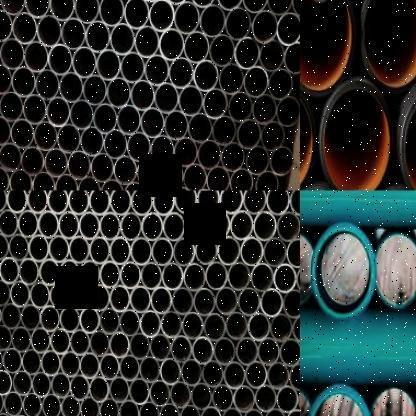pipe: (318, 79, 393, 190), (310, 225, 376, 317), (300, 0, 357, 96), (359, 0, 416, 95), (374, 232, 416, 309), (300, 79, 316, 190), (307, 388, 370, 416), (400, 84, 416, 190), (370, 388, 416, 416), (198, 3, 226, 38), (251, 9, 278, 44), (224, 7, 252, 40), (182, 30, 210, 63), (35, 14, 62, 48), (173, 1, 200, 35), (258, 38, 285, 72), (192, 60, 220, 92), (233, 36, 260, 69), (300, 232, 312, 306), (208, 34, 235, 66), (158, 28, 184, 61), (47, 42, 72, 76), (219, 62, 244, 96), (109, 23, 135, 55), (148, 0, 174, 32), (34, 68, 60, 100), (134, 25, 159, 58), (61, 17, 86, 50), (96, 48, 121, 81), (243, 65, 268, 98), (116, 103, 141, 136), (168, 56, 193, 89), (227, 90, 252, 123), (275, 94, 300, 127), (144, 53, 169, 86), (276, 11, 300, 45), (122, 0, 149, 30), (85, 20, 110, 52), (12, 12, 37, 44), (11, 66, 36, 98), (82, 74, 107, 106), (178, 84, 203, 116), (252, 93, 277, 125), (163, 109, 188, 141), (22, 93, 47, 125), (203, 87, 228, 119), (268, 68, 293, 100), (236, 118, 261, 150), (260, 120, 285, 152), (245, 144, 270, 176), (0, 37, 24, 70), (106, 76, 130, 109), (130, 79, 155, 110), (154, 82, 179, 113), (196, 139, 221, 170), (120, 52, 144, 84), (24, 40, 48, 72), (93, 102, 117, 134), (72, 46, 96, 78), (59, 71, 83, 103), (103, 128, 127, 160), (126, 130, 150, 162), (140, 106, 164, 138), (33, 120, 57, 152), (56, 122, 80, 154), (150, 134, 174, 166), (212, 114, 236, 146), (253, 210, 277, 242), (162, 210, 186, 242), (276, 210, 300, 242), (204, 260, 228, 292), (220, 142, 245, 172), (46, 96, 70, 127), (70, 99, 94, 130), (10, 118, 34, 149), (44, 147, 68, 178), (174, 136, 198, 167), (188, 112, 212, 143), (136, 157, 160, 188), (263, 237, 287, 268), (0, 90, 23, 122), (113, 154, 136, 186), (225, 310, 248, 342), (80, 126, 104, 156), (67, 150, 91, 180), (160, 160, 184, 190), (270, 146, 294, 176), (21, 145, 44, 176), (90, 152, 113, 183), (185, 209, 208, 240), (230, 209, 253, 240), (195, 235, 218, 266), (240, 235, 263, 266), (227, 261, 250, 292), (183, 261, 206, 292), (172, 237, 196, 266), (192, 287, 216, 316), (250, 262, 273, 292), (215, 286, 238, 316), (260, 288, 283, 318), (203, 312, 226, 342), (213, 336, 236, 366), (208, 209, 230, 240), (98, 0, 124, 26), (183, 163, 207, 191), (119, 261, 142, 290), (273, 263, 296, 292), (237, 287, 260, 316), (266, 361, 289, 390), (58, 210, 80, 240), (130, 236, 152, 266), (152, 236, 174, 266), (140, 261, 162, 291), (162, 262, 184, 292), (150, 285, 172, 315), (172, 286, 194, 316), (248, 312, 270, 342), (150, 332, 172, 362), (236, 336, 258, 366), (159, 356, 181, 386), (245, 360, 267, 390), (224, 360, 246, 390), (254, 384, 276, 414), (276, 384, 298, 414), (0, 141, 21, 172), (73, 0, 100, 24), (78, 211, 100, 240), (99, 211, 121, 240), (120, 211, 142, 240), (141, 212, 163, 241), (48, 234, 70, 263), (109, 236, 131, 265), (218, 236, 240, 265), (129, 285, 151, 314), (140, 309, 162, 338), (160, 310, 182, 339), (182, 311, 204, 340), (270, 313, 292, 342), (170, 334, 192, 363), (257, 337, 279, 366), (118, 353, 140, 382), (180, 358, 202, 387), (169, 380, 191, 409), (211, 383, 233, 412), (233, 384, 255, 413), (89, 235, 110, 265), (59, 258, 80, 288), (100, 259, 121, 289), (30, 280, 51, 310), (89, 282, 110, 312), (59, 304, 80, 334), (279, 337, 300, 367), (18, 257, 40, 285), (192, 336, 214, 364), (202, 360, 224, 388), (128, 377, 150, 405), (190, 382, 212, 410), (8, 233, 29, 262), (29, 233, 50, 262), (69, 235, 90, 264), (9, 280, 30, 309), (49, 281, 70, 310), (109, 284, 130, 313), (99, 307, 120, 336), (119, 308, 140, 337), (129, 332, 150, 361), (139, 355, 160, 384), (80, 350, 100, 380), (266, 190, 289, 216), (88, 375, 110, 402), (39, 258, 60, 286), (69, 282, 90, 310), (40, 304, 61, 332), (109, 330, 130, 358), (99, 352, 120, 380), (150, 378, 171, 406), (18, 209, 38, 238), (38, 210, 58, 239), (80, 259, 100, 288), (80, 306, 100, 335), (219, 190, 243, 214), (242, 190, 266, 214), (88, 190, 110, 216), (152, 190, 174, 216), (132, 190, 154, 216), (0, 208, 19, 238), (89, 329, 110, 356), (109, 376, 130, 403), (283, 41, 300, 74), (1, 302, 21, 330), (11, 325, 31, 353), (30, 326, 50, 354), (50, 327, 70, 355), (70, 328, 90, 356), (2, 346, 22, 374), (21, 348, 41, 376), (41, 349, 61, 377), (12, 368, 32, 396), (31, 370, 51, 398), (70, 373, 90, 401), (229, 168, 253, 191), (206, 166, 229, 190), (197, 190, 220, 214), (174, 190, 197, 214), (0, 256, 19, 285), (109, 190, 130, 216), (51, 372, 71, 399), (61, 350, 80, 378), (9, 168, 32, 191), (282, 289, 300, 318), (21, 303, 40, 330), (50, 0, 74, 21), (254, 170, 278, 191), (27, 190, 48, 214), (47, 190, 68, 214), (68, 190, 89, 214), (31, 170, 54, 191), (6, 190, 26, 214), (22, 392, 42, 416), (3, 391, 22, 416), (24, 0, 50, 18), (42, 393, 62, 416), (286, 237, 300, 268), (265, 0, 292, 16), (54, 172, 78, 190), (0, 9, 13, 42), (61, 394, 80, 416), (0, 62, 12, 96), (80, 396, 100, 416), (99, 396, 119, 416), (118, 398, 139, 416), (0, 0, 25, 15), (138, 399, 159, 416), (78, 175, 100, 191), (0, 115, 11, 147), (242, 0, 269, 13), (0, 368, 12, 396), (0, 324, 12, 351), (289, 361, 300, 390), (158, 402, 180, 416), (216, 0, 243, 11), (0, 278, 10, 307), (289, 190, 300, 216), (178, 403, 200, 416), (291, 314, 300, 344), (100, 178, 122, 190), (122, 180, 146, 191), (0, 232, 9, 261), (200, 405, 221, 416), (221, 406, 243, 416), (0, 166, 9, 190), (146, 182, 168, 191), (242, 407, 264, 416), (264, 407, 284, 416), (189, 1, 217, 7), (291, 0, 300, 18), (0, 190, 6, 212), (286, 408, 300, 416), (11, 412, 30, 416)
